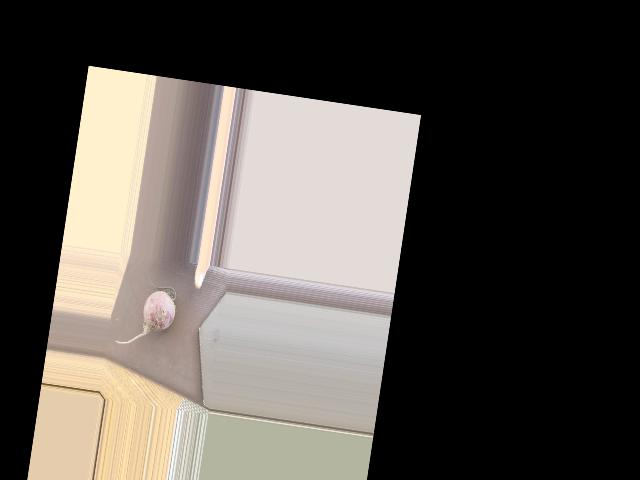beet: (115, 275, 179, 351)
